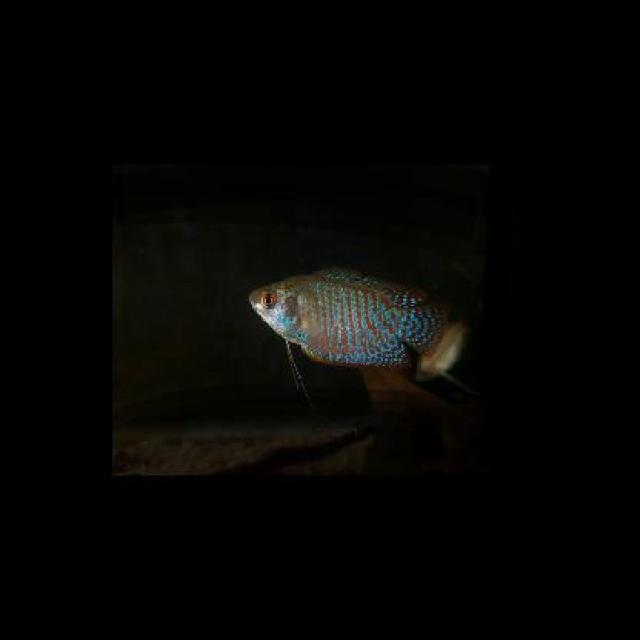Gourami: (244, 264, 450, 364)
